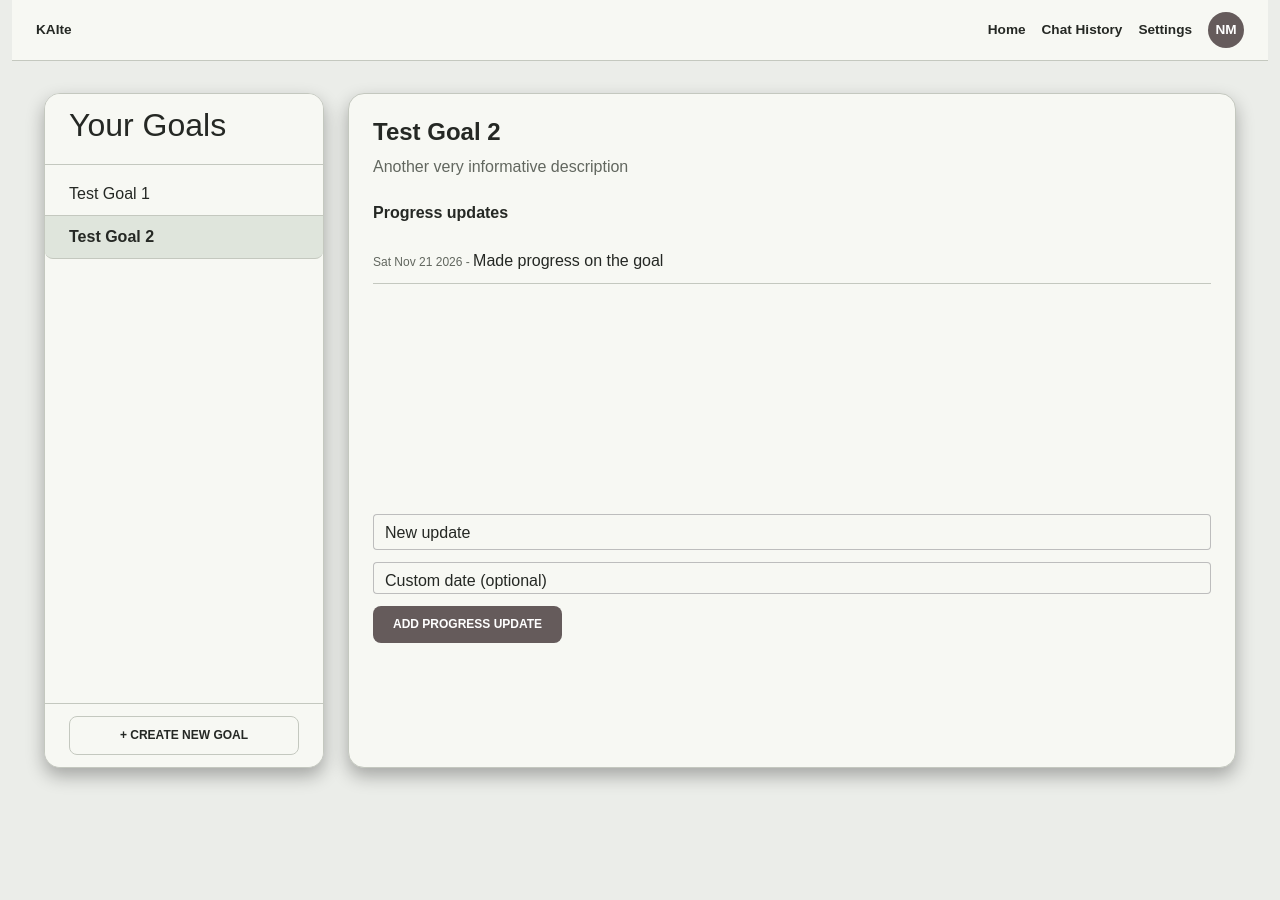
Test case: when selected pane is displayed and user clicks Create New Goal button, displays goal creation pane
// user action
Click the button "+ Create New Goal": (184, 735) [69, 716, 299, 755]
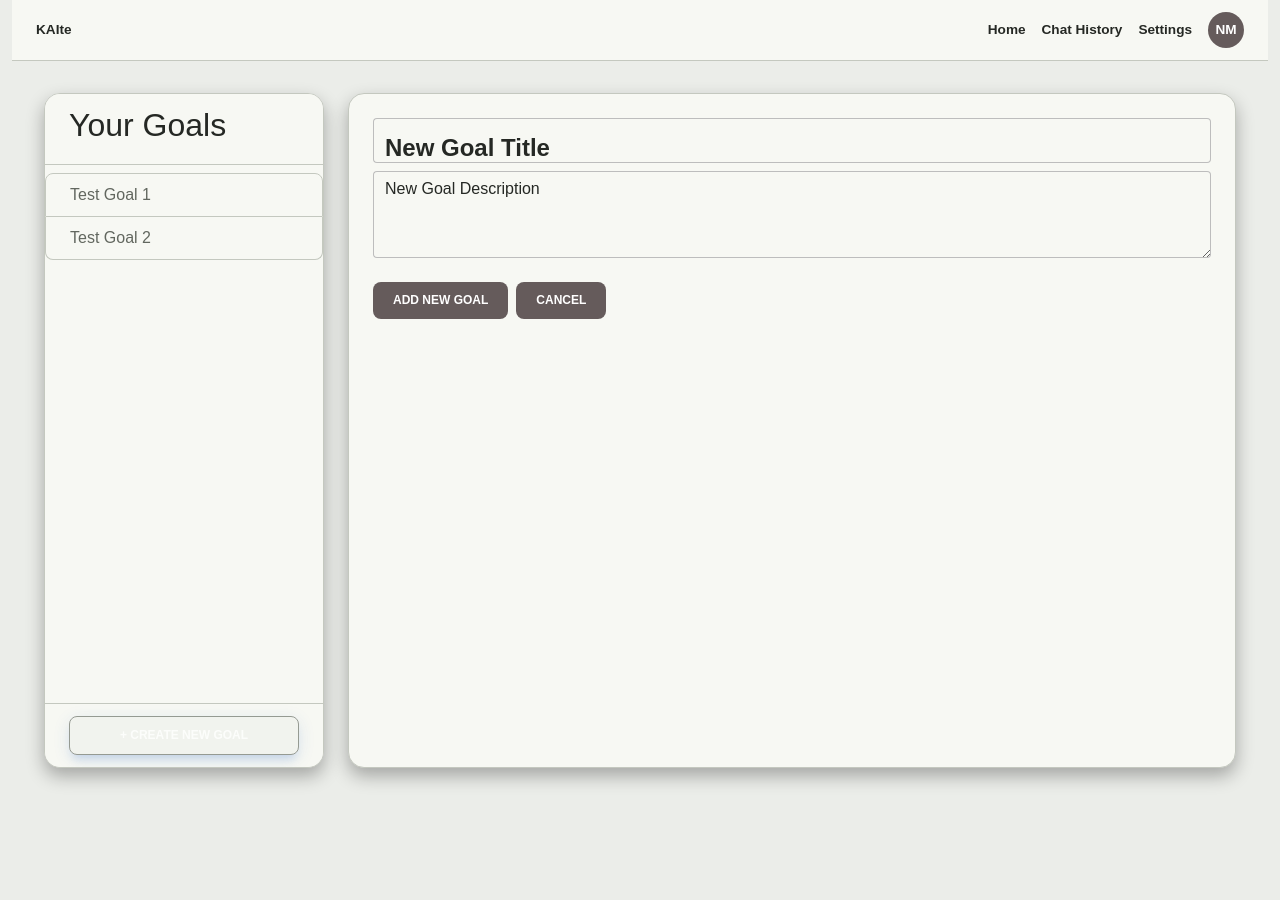
expect the field with placeholder "Title for new goal" is shown: met, box [373, 118, 1211, 163]
expect the text box with placeholder "Description for new goal" is shown: met, box [373, 171, 1211, 258]
expect the button "Add new goal" is shown: met, box [373, 282, 508, 319]
